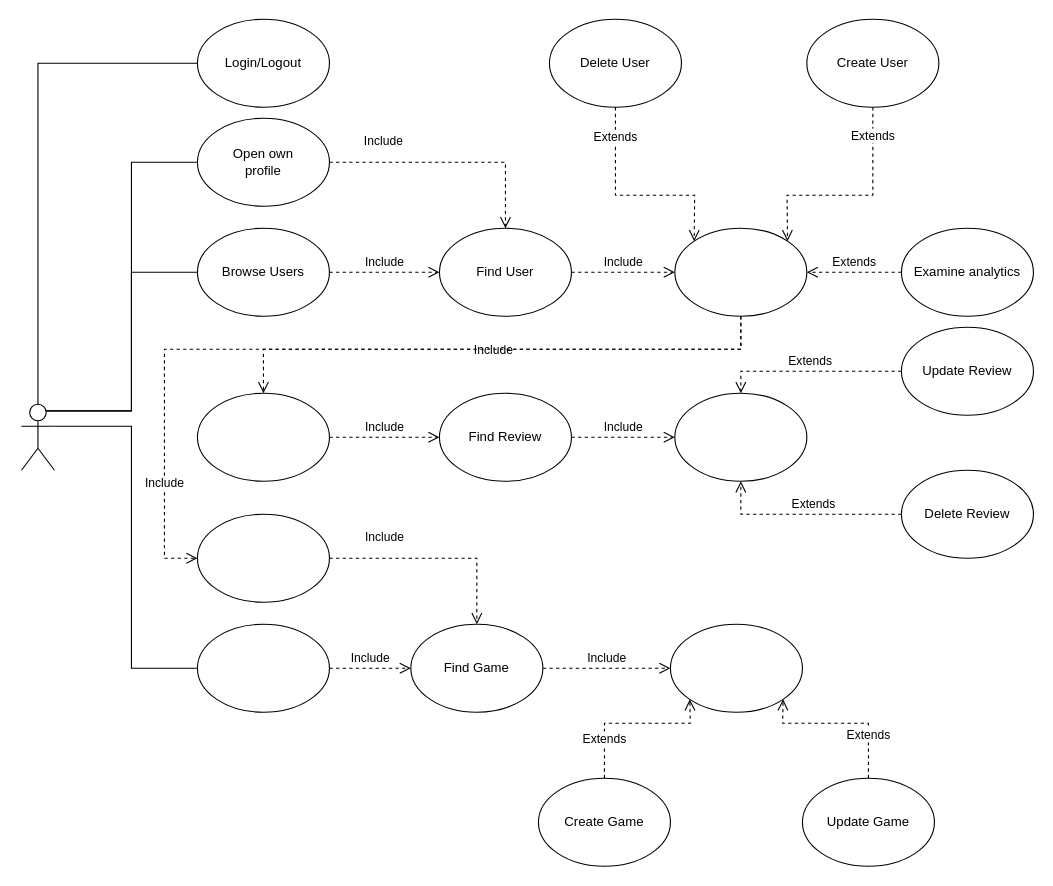
Image size: 1053x886. Some labels were removed from this diagram. Here are the shapes that lost their labels. From the top down, the centre of each, then its label:
At point (740, 271): "View User".
At point (37, 436): "Admin".
At point (262, 436): "Browse Reviews".
At point (740, 436): "View Review".
At point (262, 557): "Browse Ganelist".
At point (262, 667): "Browse Games".
At point (735, 667): "View Game".
